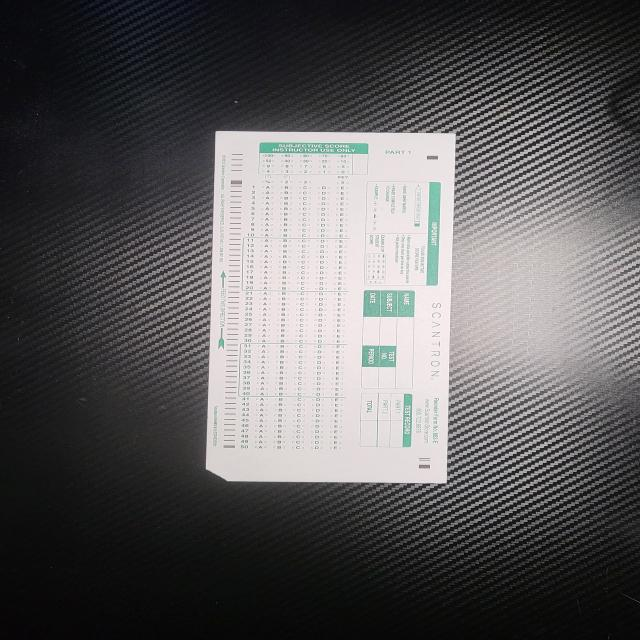scantron: (206, 131, 456, 484)
